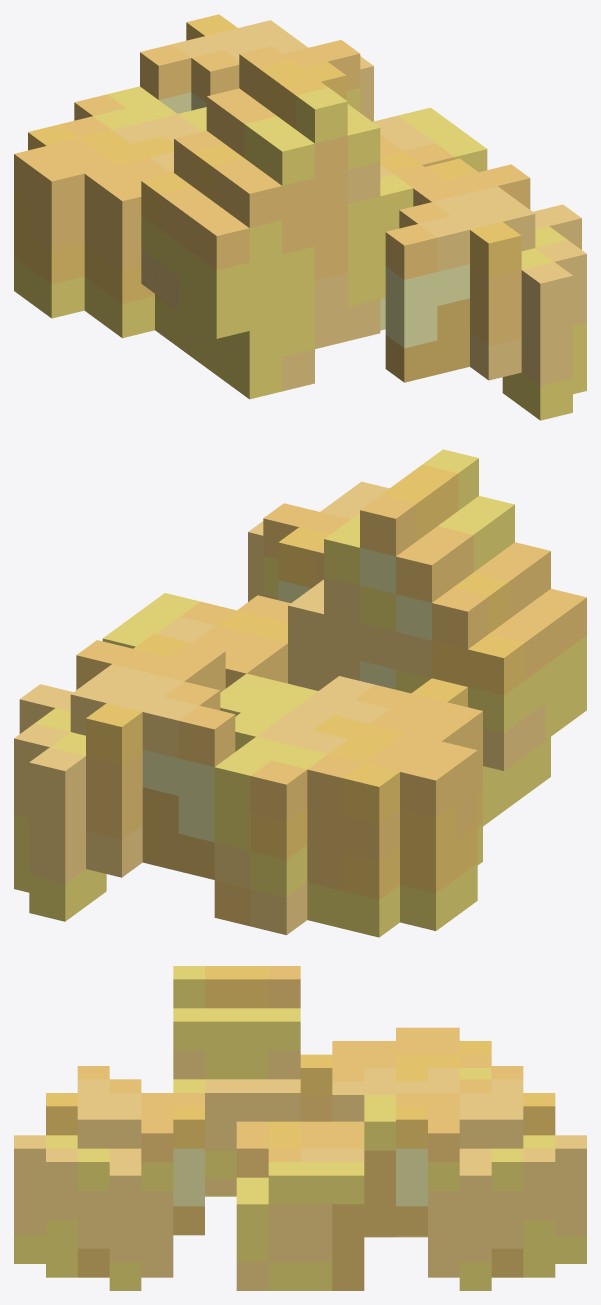
Rendered from raw_potato.obj.
3 renders of one model, top to bottom at view 1: azimuth 30°, elevation 25°; view 2: azimuth 150°, elevation 25°; view 3: azimuth 270°, elevation 25°, orthographic. The views are drawn at different scales.
Bounding box in the file's own units: 1.1 × 0.8 × 1.8.
Materials: 1 (1 with a texture image).
